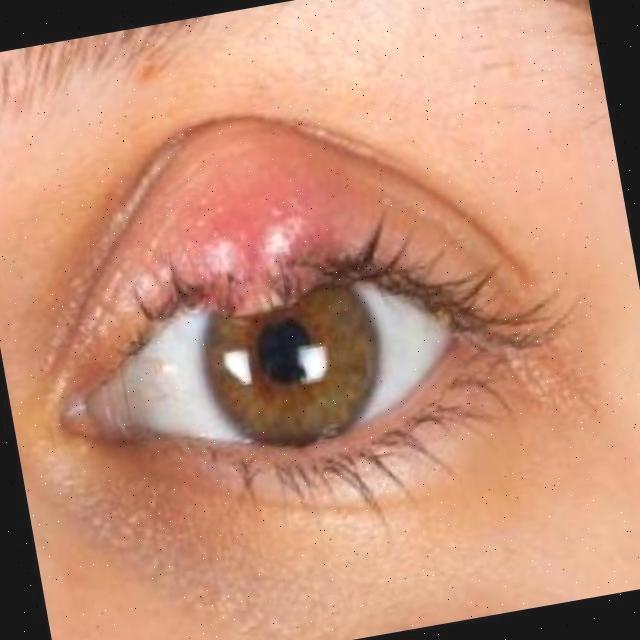Stye: (100, 78, 392, 362)
